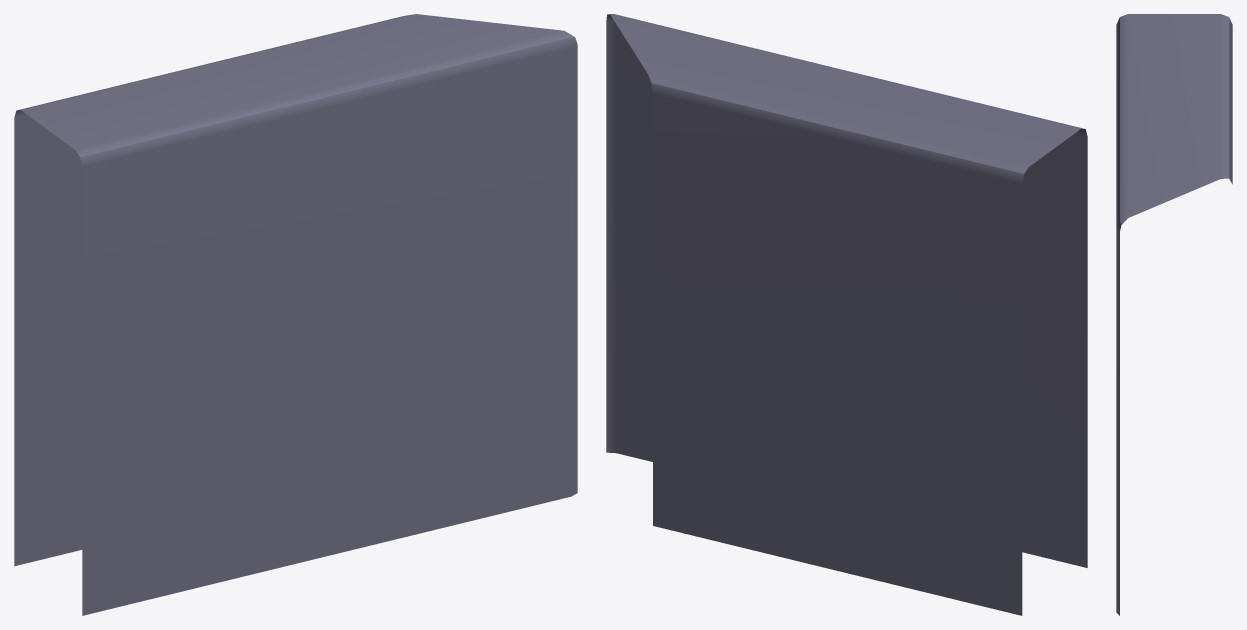
The model's file is SB_BaseR.fbx.
The picture shows the model from 3 angles, left to right: view 1: azimuth 30°, elevation 25°; view 2: azimuth 150°, elevation 25°; view 3: azimuth 270°, elevation 25°; orthographic projection. The views are drawn at different scales.
Visible parts, largest first — view 1: pCube5; view 2: pCube5; view 3: pCube5.
Part boxes in pixels (<box>): pCube5: <box>14,14,577,615</box>; pCube5: <box>606,14,1087,615</box>; pCube5: <box>1116,14,1232,615</box>.
Bounding box in the file's own units: 339 × 300 × 80.
